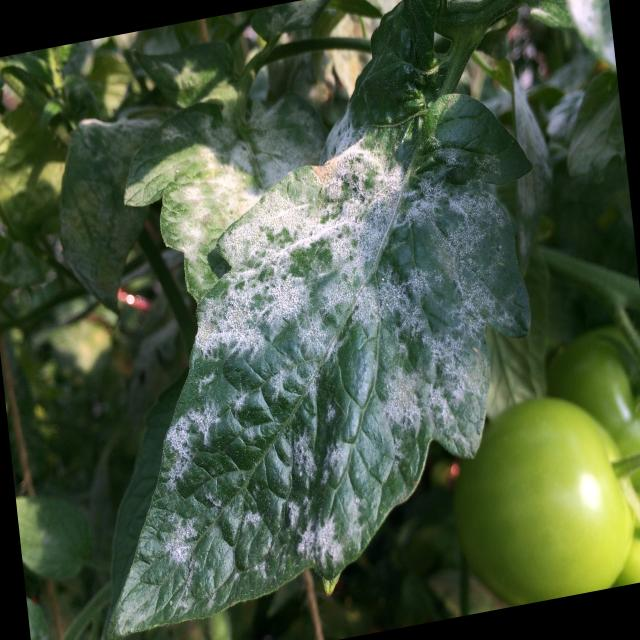Powdery Mildew: (109, 127, 532, 632)
